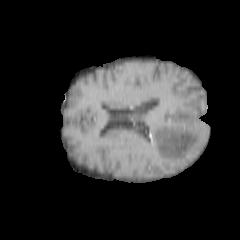glioma: (138, 112, 203, 160)
